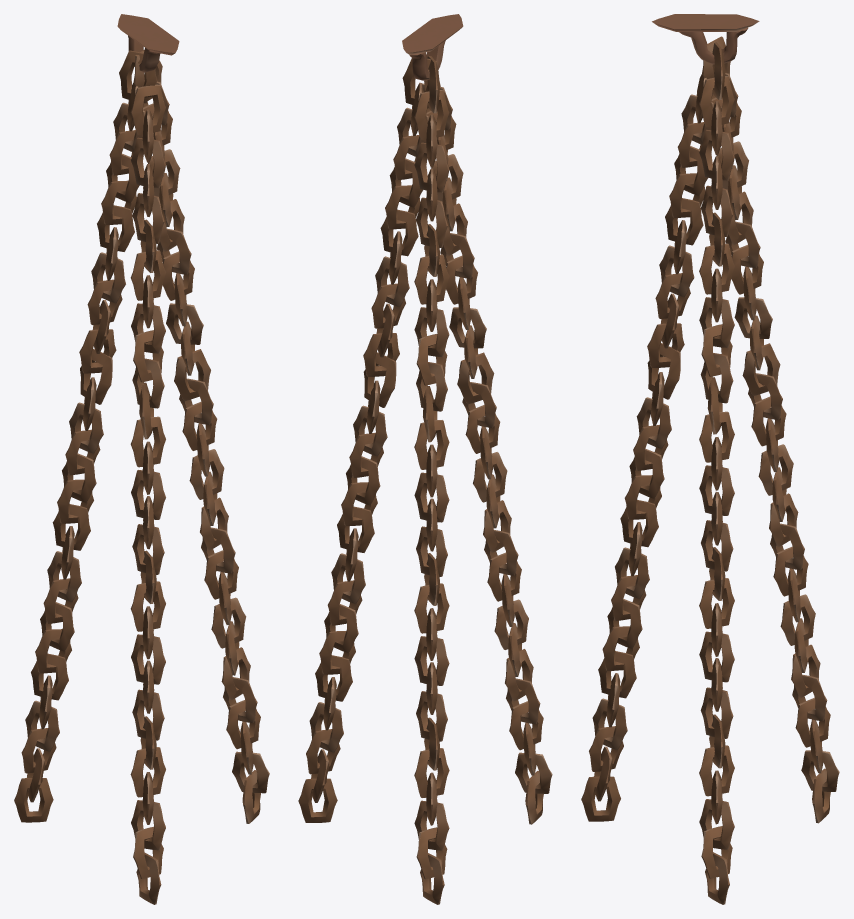
Rendered from SM_Potion_Props_Chain_Pot_02.fbx.
3 views of the same model, side by side, from view 1: azimuth 30°, elevation 25°; view 2: azimuth 150°, elevation 25°; view 3: azimuth 270°, elevation 25° (orthographic).
Visible parts, largest first — view 1: SM_Potion_Props_Chain_Pot_02_LOD0; view 2: SM_Potion_Props_Chain_Pot_02_LOD0; view 3: SM_Potion_Props_Chain_Pot_02_LOD0.
Part boxes in pixels (x1,y1,x2,y2): SM_Potion_Props_Chain_Pot_02_LOD0: (14,14,269,904); SM_Potion_Props_Chain_Pot_02_LOD0: (298,14,552,904); SM_Potion_Props_Chain_Pot_02_LOD0: (581,14,839,904).
Size of what is drawn, in the model's own units: 95.83 by 380 by 108.
